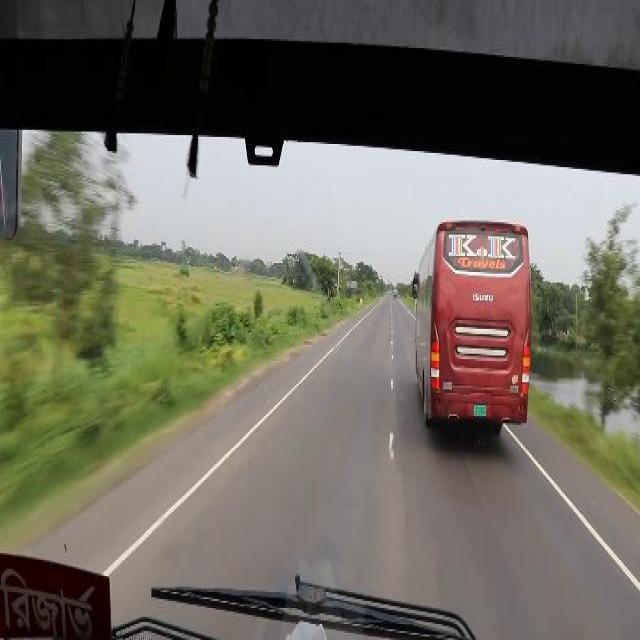bus: (412, 217, 530, 434)
